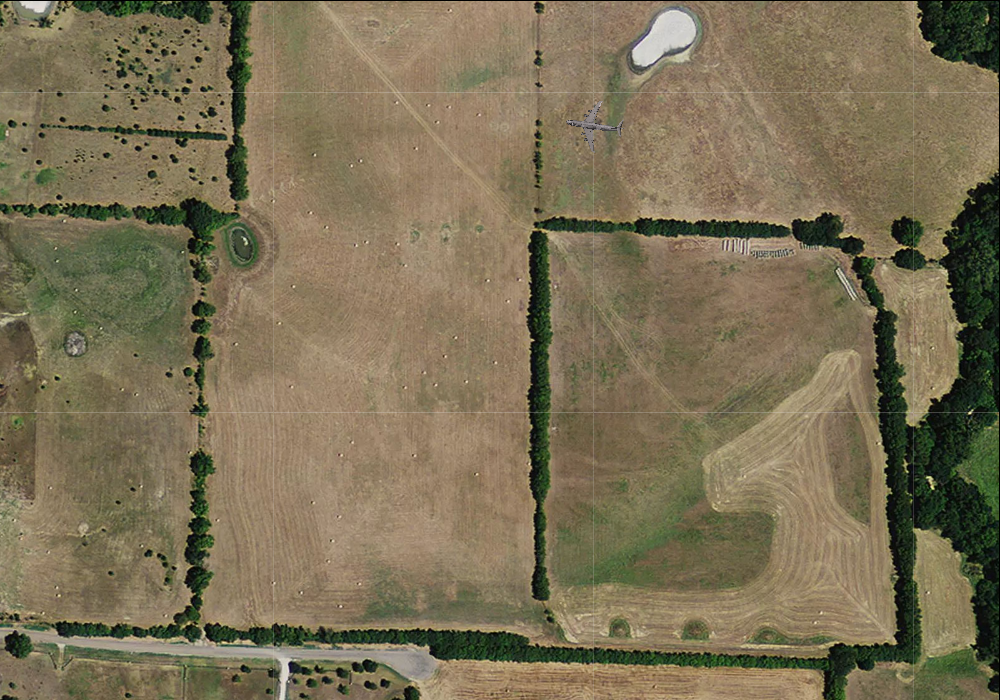plane: (561, 93, 627, 157)
